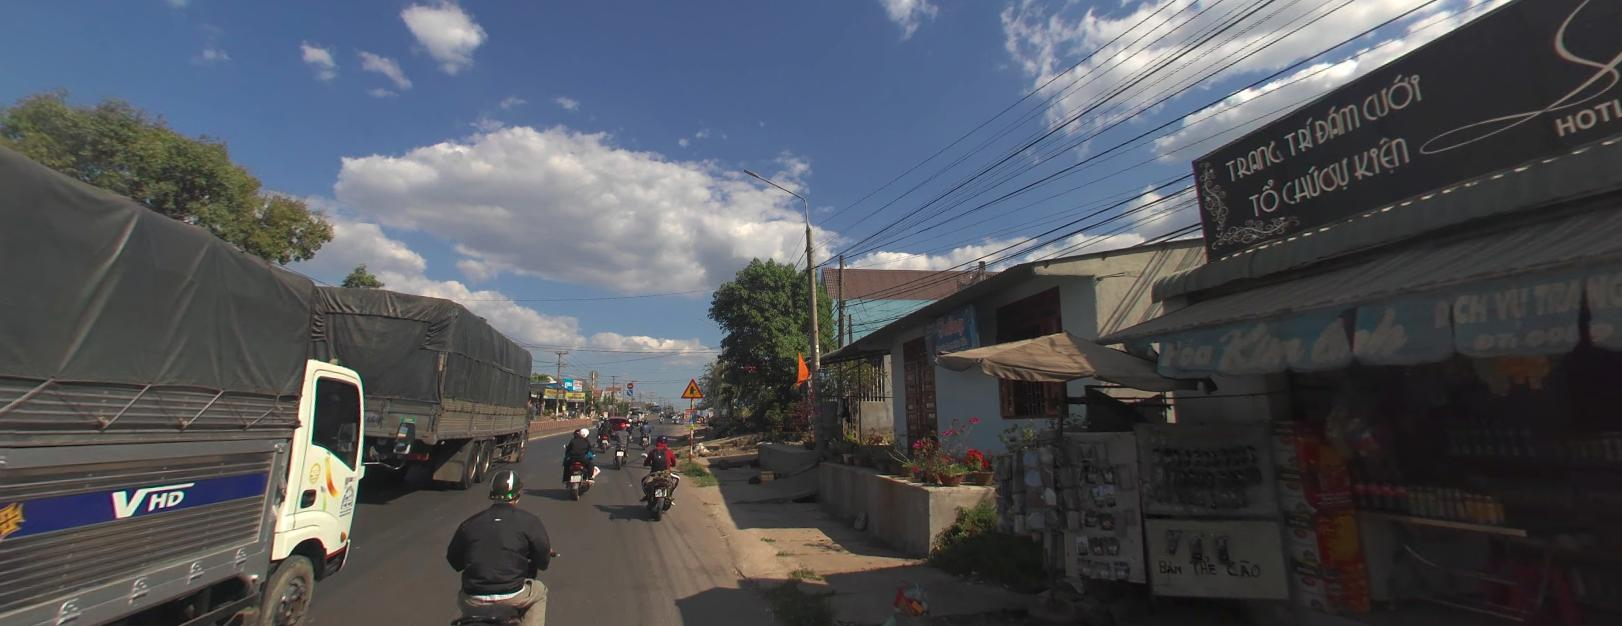Cam nguoc chieu: (627, 381, 633, 387), (627, 381, 633, 386), (627, 381, 632, 387)
Hieu lenh: (626, 388, 632, 393), (627, 388, 632, 394), (627, 388, 632, 393)
Nguy hiem: (680, 377, 704, 397), (681, 377, 703, 396), (682, 377, 703, 396)
